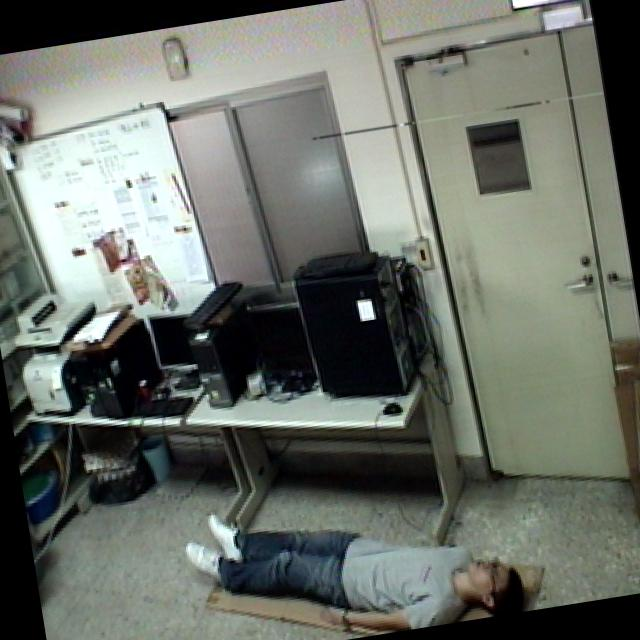lie: (167, 452, 532, 640)
